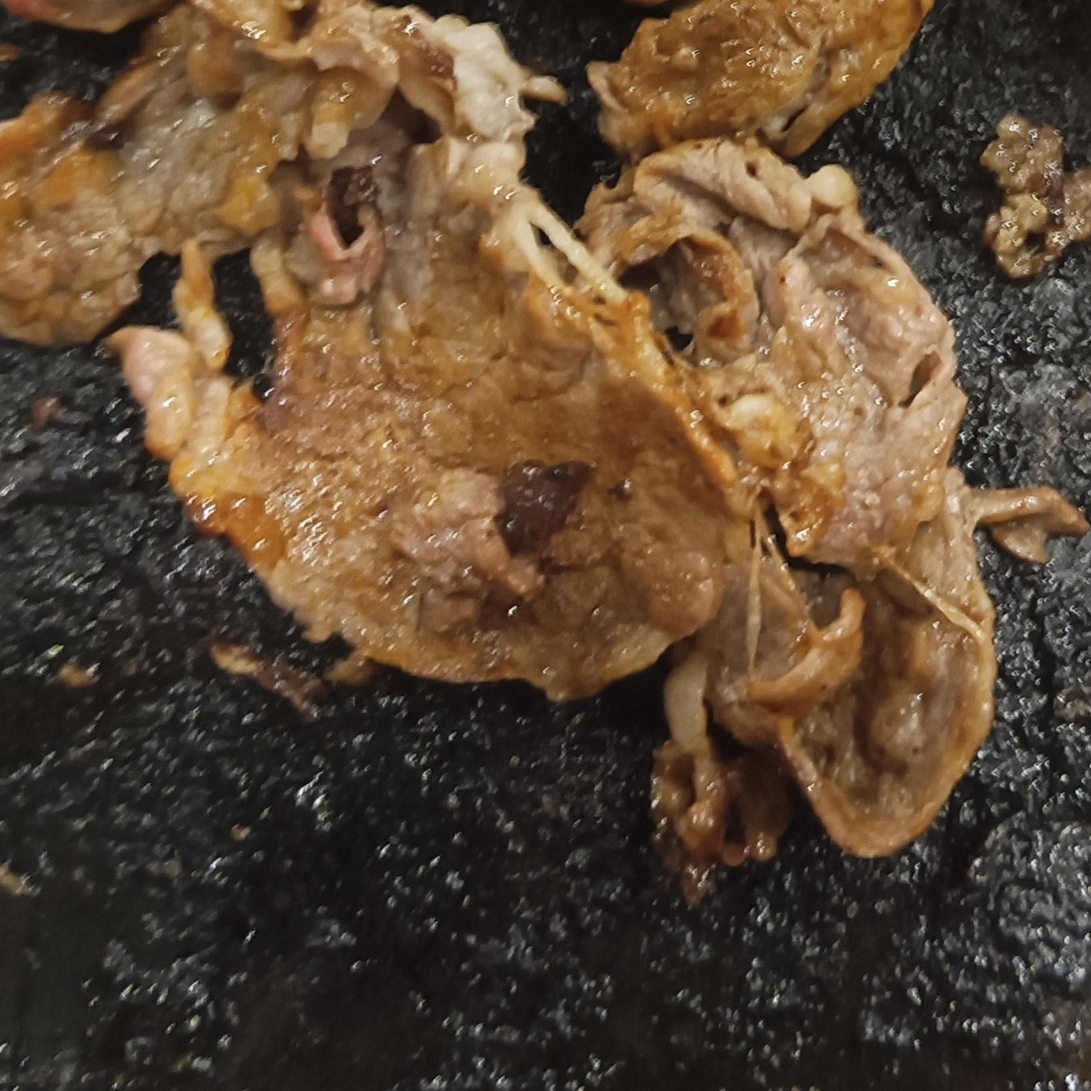Overcooked: (972, 116, 1085, 286)
Well-Cooked: (0, 0, 1081, 875), (586, 0, 940, 167)
